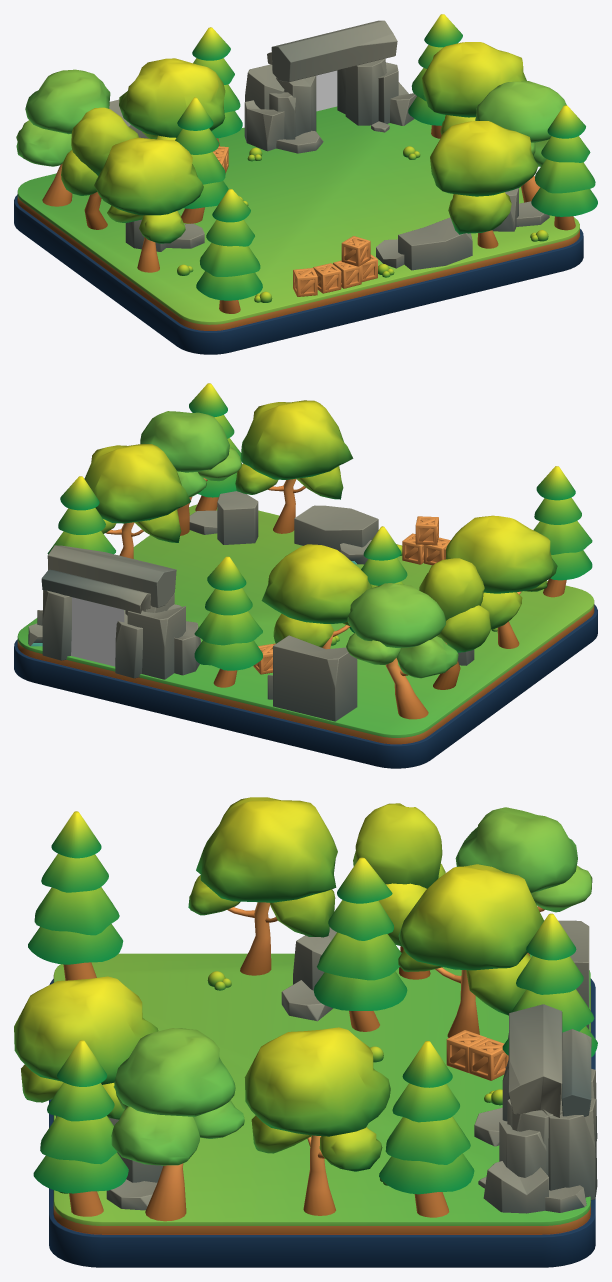
Rendered from goa ajaib.fbx.
The picture shows the model from 3 angles, top to bottom: view 1: azimuth 30°, elevation 25°; view 2: azimuth 150°, elevation 25°; view 3: azimuth 270°, elevation 25°; orthographic projection. The views are drawn at different scales.
Visible parts, largest first — view 1: Plane.001, Sphere.010, Sphere.014, Sphere.017, Sphere.005, Sphere.021, Sphere.011, Sphere.013, Cube.018, Sphere.006, Sphere.008, Sphere.015 (+21 smaller); view 2: Plane.001, Sphere.010, Sphere.017, Sphere.021, Sphere.014, Sphere.005, Cube.001, Sphere.008, Sphere.009, Sphere.006, Sphere.013, Cube.018 (+14 smaller); view 3: Plane.001, Sphere.021, Sphere.014, Sphere.008, Sphere.005, Sphere.010, Sphere.012, Sphere.015, Sphere.011, Sphere.013, Sphere.017, Sphere.006 (+16 smaller).
Boxes of the visible parts, bbox=[...] form: Plane.001: bbox=[14, 106, 583, 354]; Sphere.010: bbox=[430, 121, 538, 248]; Sphere.014: bbox=[94, 137, 203, 272]; Sphere.017: bbox=[16, 69, 110, 206]; Sphere.005: bbox=[119, 58, 225, 139]; Sphere.021: bbox=[422, 42, 526, 134]; Sphere.011: bbox=[531, 105, 597, 230]; Sphere.013: bbox=[196, 189, 262, 313]; Cube.018: bbox=[271, 20, 397, 82]; Sphere.006: bbox=[61, 107, 138, 229]; Sphere.008: bbox=[475, 81, 580, 202]; Sphere.015: bbox=[175, 97, 228, 223]; Plane.001: bbox=[14, 504, 597, 768]; Sphere.010: bbox=[235, 400, 353, 533]; Sphere.017: bbox=[346, 583, 458, 719]; Sphere.021: bbox=[84, 444, 190, 558]; Sphere.014: bbox=[446, 515, 557, 648]; Sphere.005: bbox=[261, 544, 372, 649]; Cube.001: bbox=[273, 635, 357, 721]; Sphere.008: bbox=[140, 411, 241, 535]; Sphere.009: bbox=[194, 556, 262, 687]; Sphere.006: bbox=[419, 558, 491, 689]; Sphere.013: bbox=[533, 466, 592, 597]; Cube.018: bbox=[47, 545, 176, 607]; Plane.001: bbox=[49, 953, 595, 1267]; Sphere.021: bbox=[244, 1027, 390, 1215]; Sphere.014: bbox=[188, 797, 337, 975]; Sphere.008: bbox=[111, 1028, 244, 1221]; Sphere.005: bbox=[398, 864, 543, 1037]; Sphere.010: bbox=[14, 976, 158, 1119]; Sphere.012: bbox=[379, 1041, 474, 1217]; Sphere.015: bbox=[313, 857, 407, 1031]; Sphere.011: bbox=[33, 1040, 128, 1216]; Sphere.013: bbox=[28, 811, 123, 980]; Sphere.017: bbox=[455, 807, 592, 955]; Sphere.006: bbox=[353, 803, 445, 979].
Bounding box in the file's own units: 1450 × 483 × 1196.
Materials: 4 (3 with a texture image).
